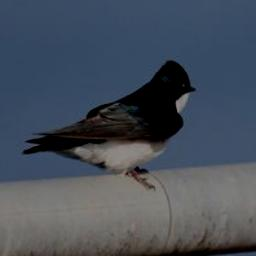Swallow: (21, 59, 195, 191)
